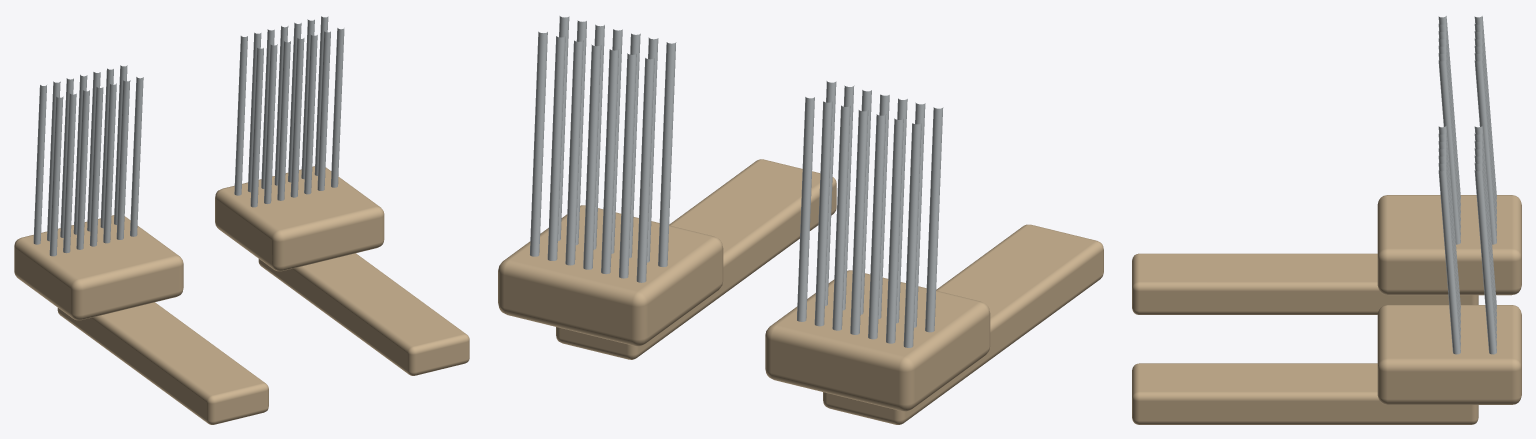
Rendered from textile-weaving-and-dye-workshop-wool-comb-pair-edc87748__29546.glb.
3 renders of one model, left to right at view 1: azimuth 30°, elevation 25°; view 2: azimuth 150°, elevation 25°; view 3: azimuth 270°, elevation 25°, orthographic. The views are drawn at different scales.
Parts seen in each view (by area): view 1: wool-comb-pair; view 2: wool-comb-pair; view 3: wool-comb-pair.
Part boxes in pixels (x1=…): wool-comb-pair: x1=14, y1=16, x2=469, y2=424; wool-comb-pair: x1=498, y1=16, x2=1103, y2=424; wool-comb-pair: x1=1132, y1=16, x2=1521, y2=424.
Size of the model in its own units: 0.28 by 0.2002 by 0.27.
